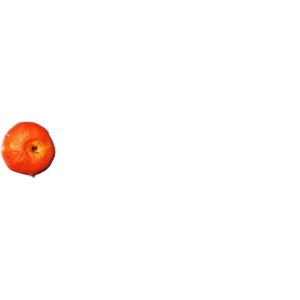tangerina: (1, 125, 56, 176)
